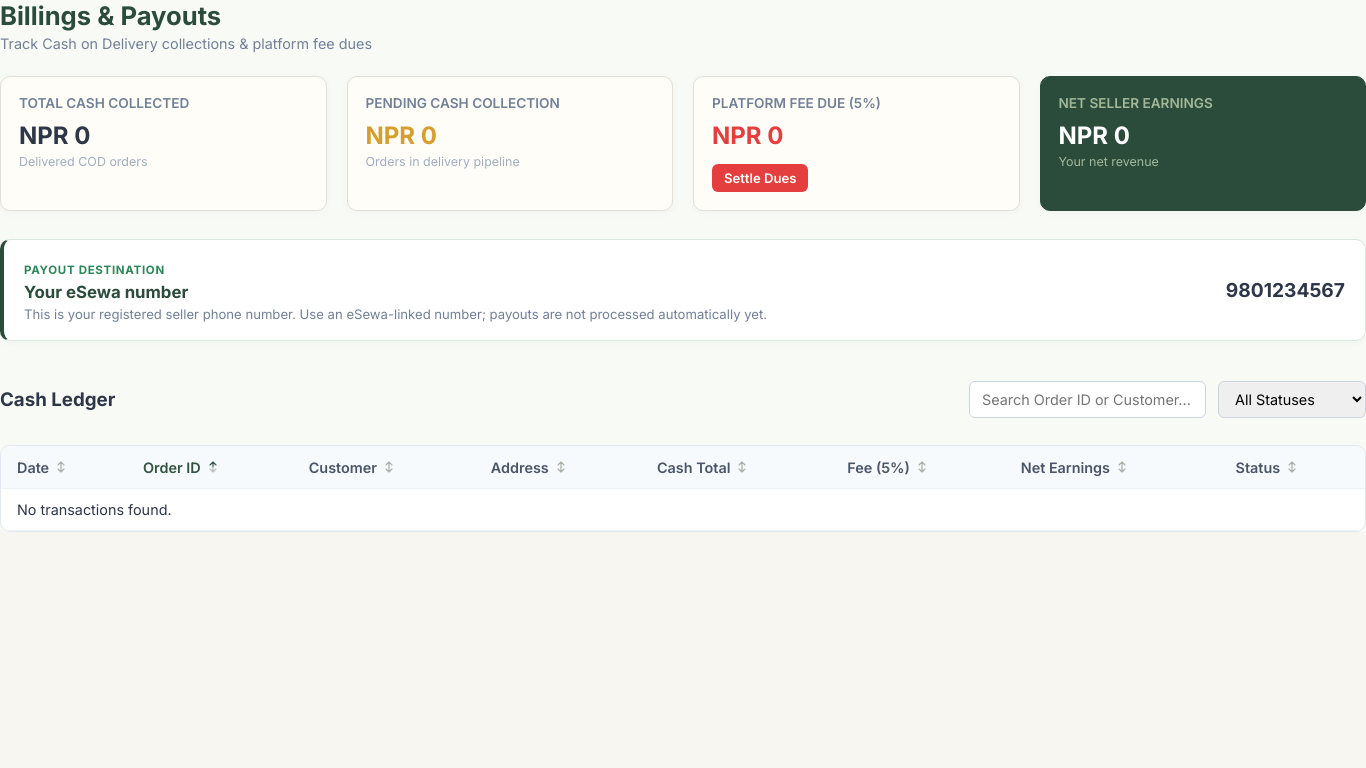
shows the seller eSewa payout number separately from platform fee payment details
Check: the text "9801234567" is shown, box [1226,278,1345,302]
Click the button "Settle Dues" at (760, 178), box [712,164,808,192]
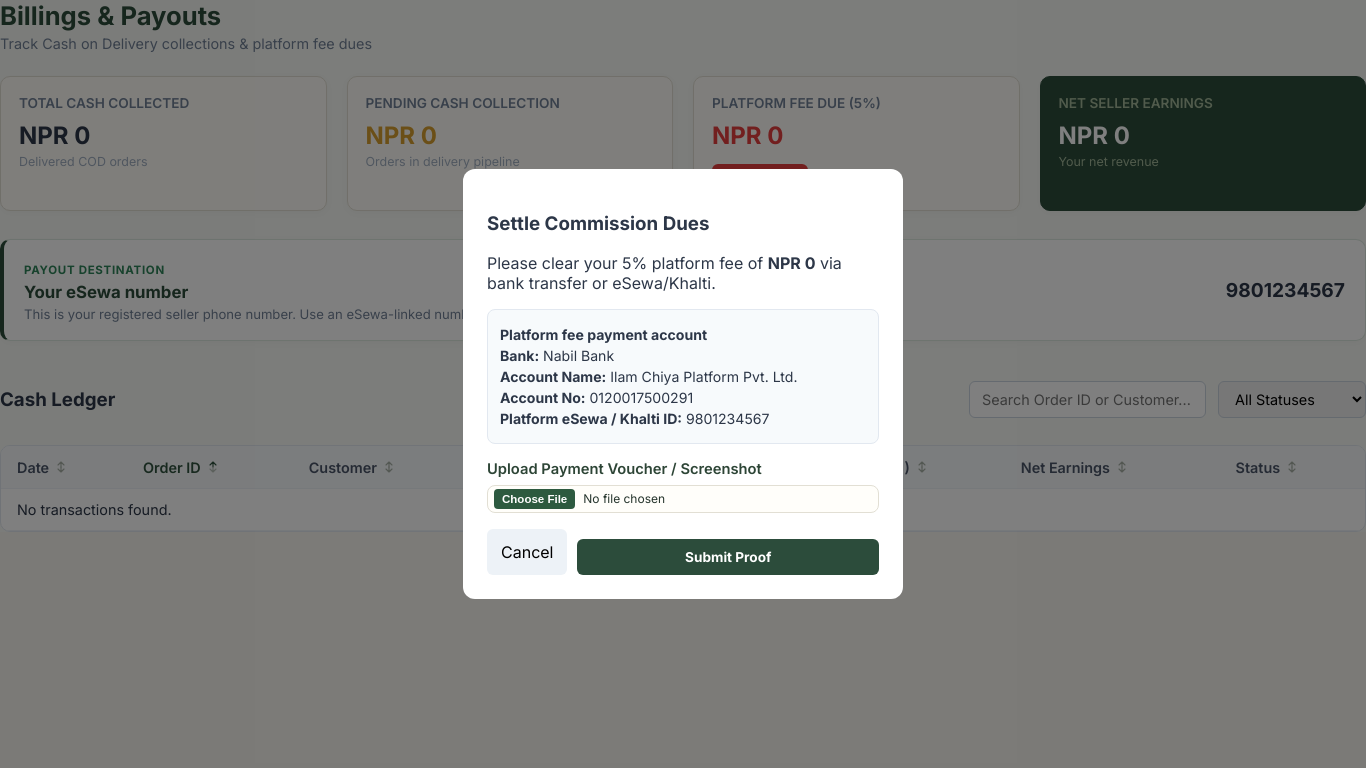
Check: the text "Platform fee payment account" is shown, box [500,326,707,343]
